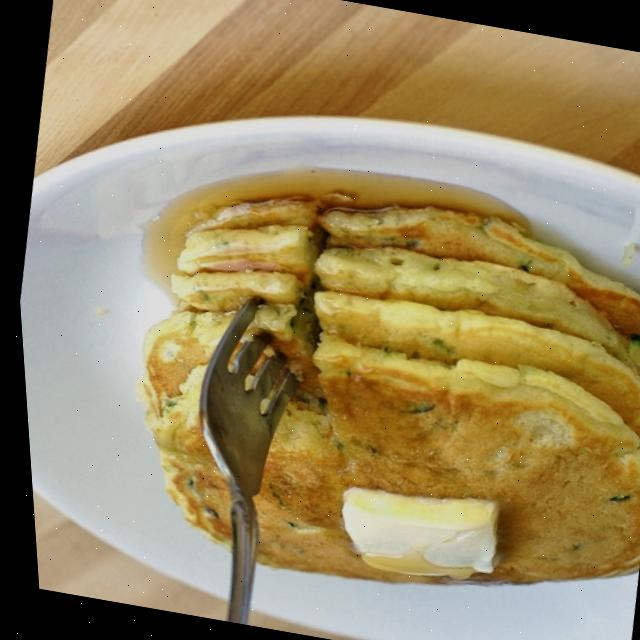蛋糕甜品: (64, 136, 640, 640)
